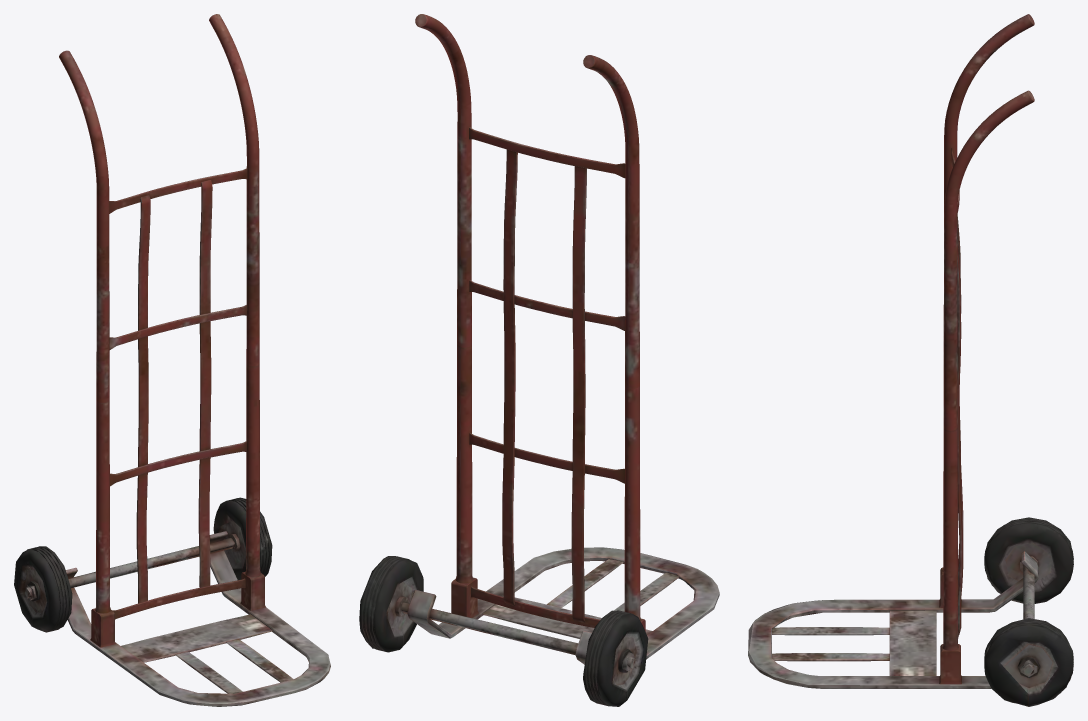
The model's file is hand_truck.glb.
The picture shows the model from 3 angles, left to right: view 1: azimuth 30°, elevation 25°; view 2: azimuth 150°, elevation 25°; view 3: azimuth 270°, elevation 25°; orthographic projection. The views are drawn at different scales.
Visible parts, largest first — view 1: hand_truck; view 2: hand_truck; view 3: hand_truck.
Boxes of the visible parts, x1,y1,x2,y2 form: hand_truck: [14, 14, 330, 706]; hand_truck: [359, 14, 719, 706]; hand_truck: [748, 14, 1073, 706].
Size of the model in its own units: 0.5932 by 1.4 by 0.6923.
1 material, 1 textured.
